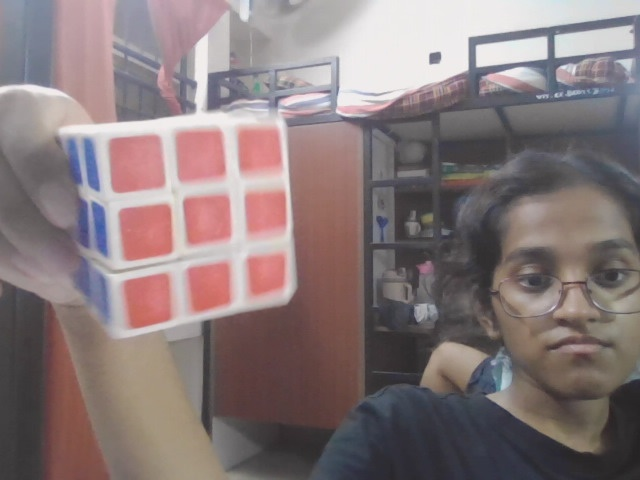rubiks_cube: (0, 83, 292, 338)
